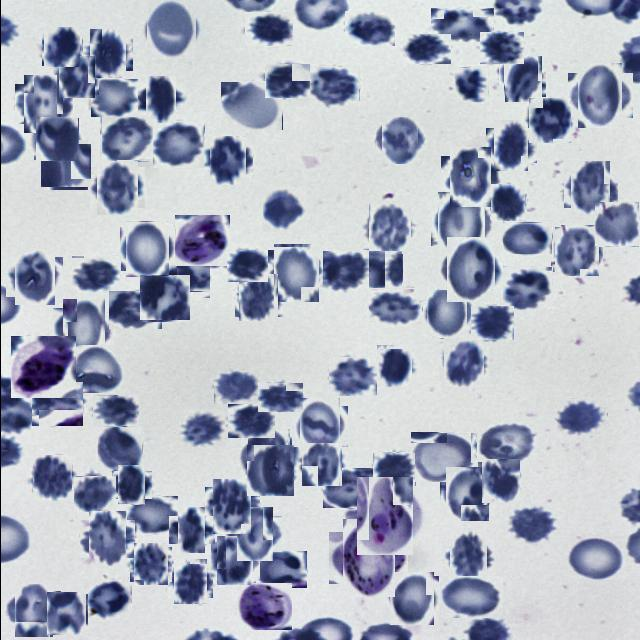difficult: (334, 525, 400, 591)
red blood cell: (410, 432, 476, 482), (442, 241, 499, 298), (220, 81, 282, 130), (572, 68, 627, 123), (433, 196, 488, 250), (144, 1, 198, 56), (67, 345, 124, 393), (270, 247, 322, 299), (99, 114, 155, 162), (439, 576, 502, 618), (56, 304, 108, 354), (444, 152, 496, 202), (566, 536, 625, 580), (478, 422, 536, 466), (122, 224, 172, 274), (242, 432, 292, 482), (244, 446, 294, 495), (152, 121, 204, 168), (442, 469, 491, 518), (386, 574, 436, 622), (10, 252, 58, 302), (18, 80, 68, 128), (31, 381, 83, 426), (552, 226, 600, 274), (92, 164, 140, 212), (295, 402, 343, 450), (566, 164, 614, 212), (140, 273, 188, 321), (365, 205, 412, 252), (208, 483, 255, 530), (502, 266, 552, 310), (83, 516, 130, 562), (368, 288, 422, 328), (430, 8, 493, 42), (10, 587, 56, 633), (42, 142, 88, 188), (308, 66, 359, 107), (424, 290, 469, 336), (106, 291, 160, 329), (97, 426, 142, 471), (446, 534, 490, 580), (440, 340, 486, 384), (230, 512, 276, 556), (322, 468, 372, 508), (126, 496, 177, 535), (508, 506, 560, 544), (556, 398, 607, 436), (351, 250, 402, 288), (262, 188, 306, 232), (594, 202, 638, 246), (322, 251, 368, 293), (83, 580, 131, 620), (154, 264, 210, 298), (527, 99, 571, 142), (236, 276, 280, 319), (34, 117, 77, 161), (255, 551, 306, 588), (328, 357, 376, 396), (71, 255, 120, 293), (30, 456, 73, 499), (489, 124, 532, 167), (206, 139, 249, 182), (213, 539, 256, 582), (344, 10, 395, 46), (88, 79, 136, 117), (85, 32, 128, 74), (500, 58, 542, 100), (378, 119, 420, 161), (300, 443, 342, 485), (479, 460, 520, 502), (178, 410, 224, 447), (44, 594, 86, 634), (244, 12, 292, 46), (264, 63, 310, 98), (169, 562, 209, 602), (74, 474, 114, 514), (56, 57, 96, 97), (502, 222, 552, 254), (227, 404, 274, 438), (374, 346, 413, 385), (130, 546, 170, 584), (91, 395, 138, 427), (140, 80, 179, 118), (470, 306, 513, 340), (372, 452, 415, 486), (42, 28, 80, 66), (402, 34, 450, 64), (213, 372, 257, 404), (479, 32, 523, 64), (257, 382, 303, 412), (172, 512, 210, 548), (224, 250, 266, 282), (490, 184, 526, 220), (453, 67, 488, 102), (114, 468, 148, 502)
schizont: (10, 336, 75, 398)
trophozoite: (350, 482, 418, 550), (174, 215, 229, 266), (234, 583, 290, 630)
